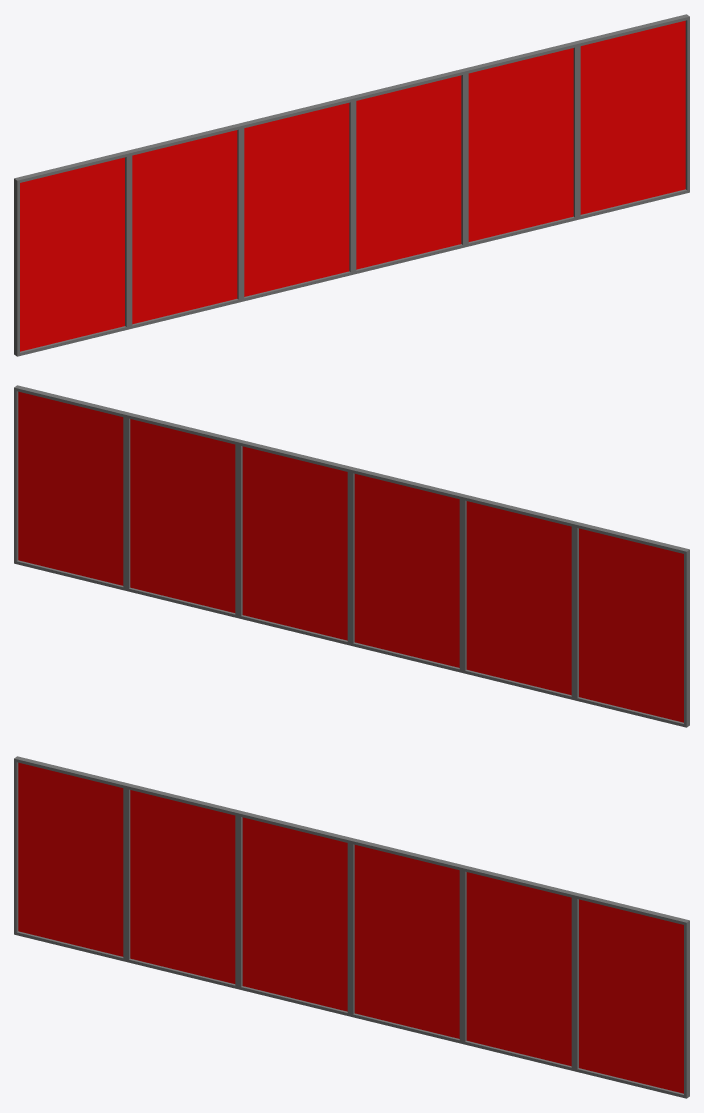
Rendered from WindowBay01b.fbx.
3 renders of one model, top to bottom at view 1: azimuth 30°, elevation 25°; view 2: azimuth 150°, elevation 25°; view 3: azimuth 330°, elevation 25°, orthographic.
Parts seen in each view (by area): view 1: WindowBay01b; view 2: WindowBay01b; view 3: WindowBay01b.
Boxes of the visible parts, x1,y1,x2,y2 form: WindowBay01b: (14,14,689,356); WindowBay01b: (14,385,689,727); WindowBay01b: (14,756,689,1098).
Size of the model in its own units: 600 by 150 by 5.
